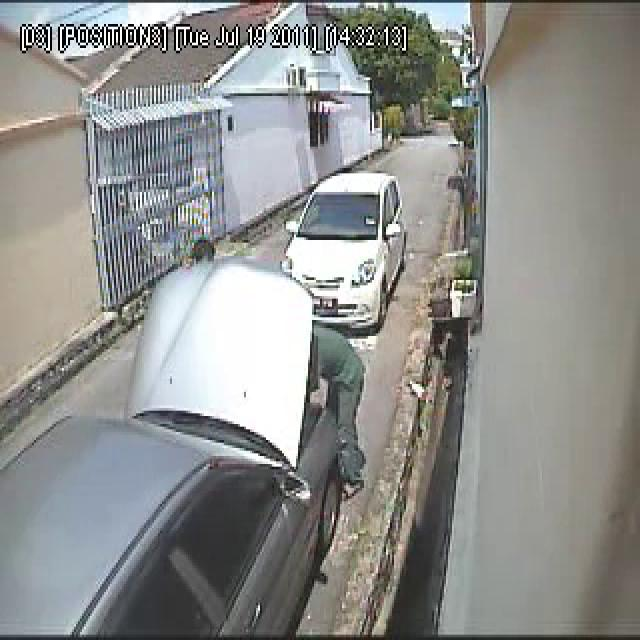stealing: (125, 170, 423, 584)
